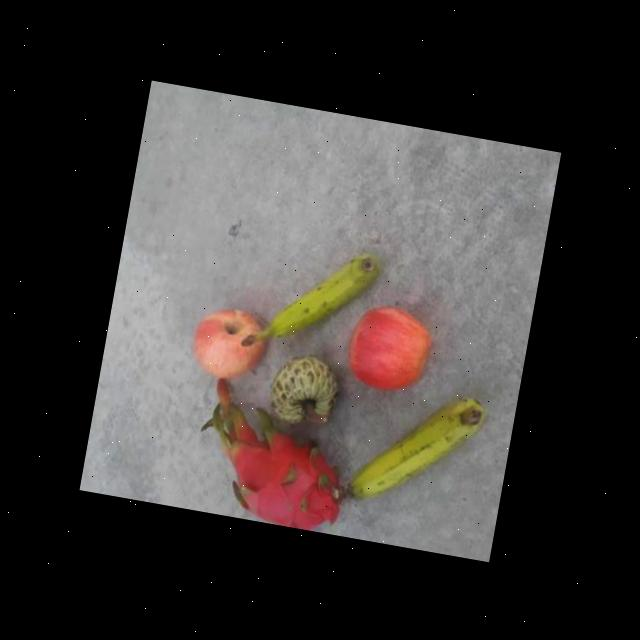Sakya fruit: (263, 347, 346, 432)
apple: (339, 298, 437, 398), (186, 299, 274, 385)
banana: (342, 379, 487, 520), (239, 231, 383, 368)
pitaya: (217, 418, 356, 534)
